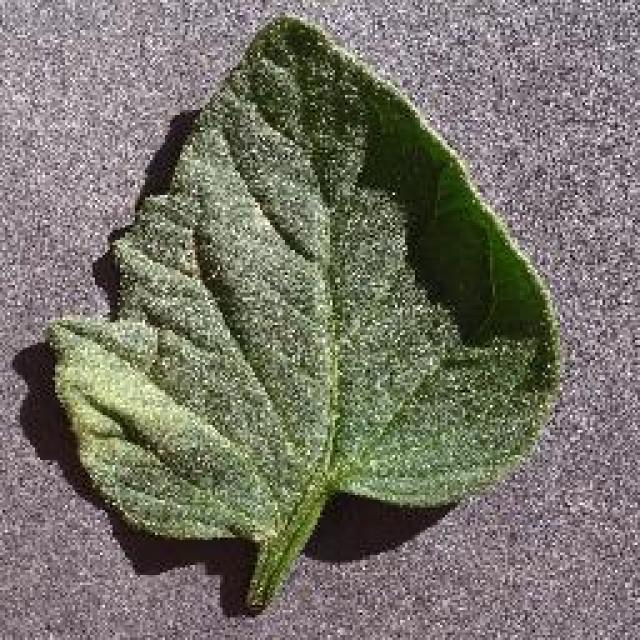Tomato___healthy: (38, 11, 562, 615)
